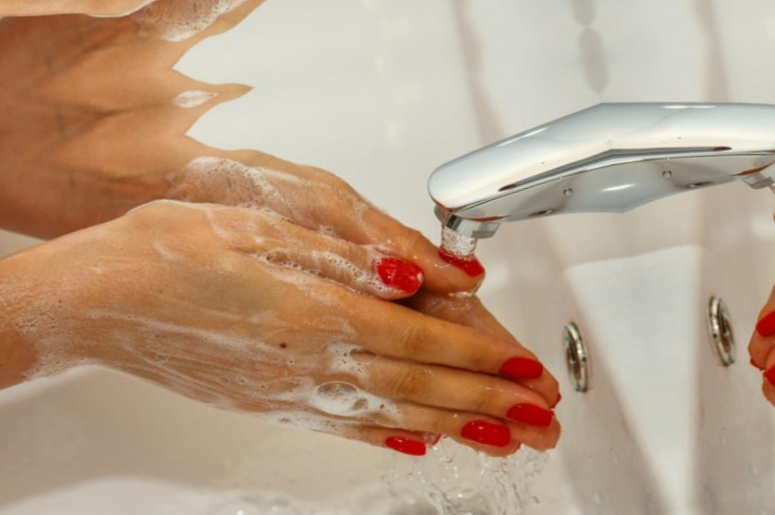washing hand: (31, 100, 643, 514)
